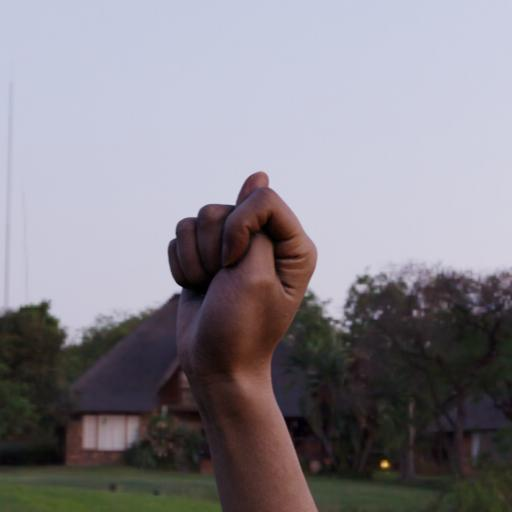T: (142, 154, 342, 398)
